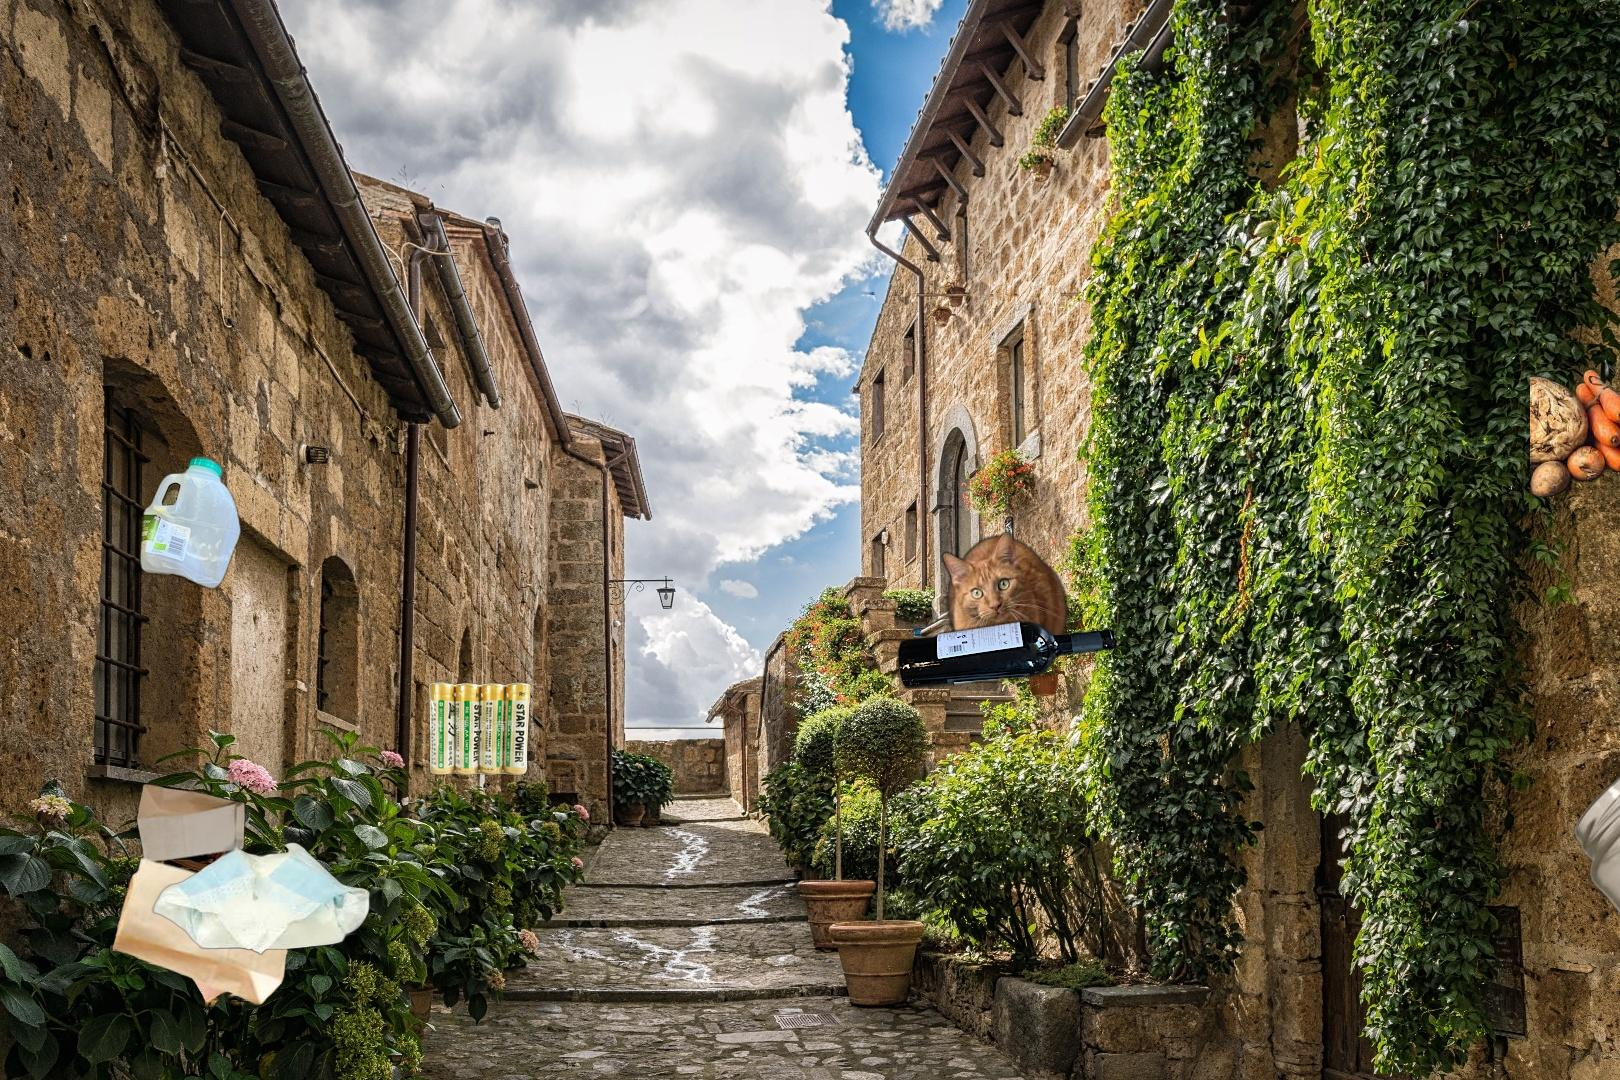battery: (425, 652, 554, 777)
biological: (1530, 358, 1620, 521)
glass: (893, 615, 1122, 695), (1571, 734, 1620, 972)
paper-bag: (108, 781, 300, 1011)
plastic-bottles: (135, 450, 246, 595)
trash: (149, 837, 372, 959)
trashbox-cardboard: (816, 398, 1222, 740)
